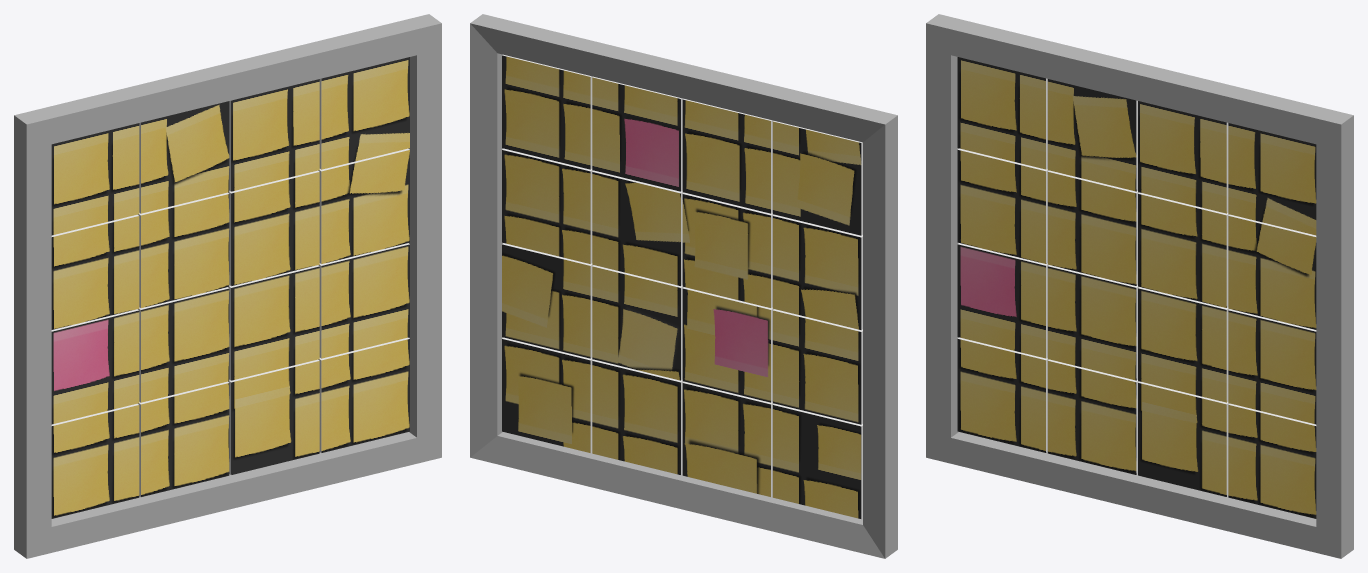
Rendered from puzzle2_postit.fbx.
The picture shows the model from 3 angles, left to right: view 1: azimuth 30°, elevation 25°; view 2: azimuth 150°, elevation 25°; view 3: azimuth 330°, elevation 25°; orthographic projection.
Visible parts, largest first — view 1: tl_1, sic, eleven, twelve, sixteen, fourteen, five, ten, fifteen, seven, nine, thirteen (+5 smaller); view 2: tl_1, sic, eleven, twelve, sixteen, five, fourteen, ten, thirteen, fifteen, seven, eight (+5 smaller); view 3: tl_1, seven, nine, ten, thirteen, eight, fourteen, fifteen, eleven, sic, twelve, sixteen (+5 smaller).
Part boxes in pixels (x1=…): tl_1: x1=14, y1=14, x2=441, y2=558; sic: x1=228, y1=170, x2=319, y2=286; eleven: x1=228, y1=265, x2=319, y2=380; twelve: x1=318, y1=243, x2=409, y2=358; sixteen: x1=318, y1=337, x2=409, y2=452; fourteen: x1=138, y1=381, x2=229, y2=496; five: x1=318, y1=148, x2=409, y2=263; ten: x1=138, y1=287, x2=229, y2=402; fifteen: x1=228, y1=359, x2=319, y2=474; seven: x1=138, y1=192, x2=229, y2=307; nine: x1=51, y1=309, x2=139, y2=424; thirteen: x1=51, y1=403, x2=139, y2=518; tl_1: x1=470, y1=14, x2=897, y2=558; sic: x1=592, y1=170, x2=683, y2=286; eleven: x1=592, y1=265, x2=683, y2=380; twelve: x1=502, y1=243, x2=593, y2=358; sixteen: x1=502, y1=337, x2=593, y2=452; five: x1=502, y1=148, x2=593, y2=263; fourteen: x1=682, y1=381, x2=773, y2=496; ten: x1=682, y1=287, x2=773, y2=402; thirteen: x1=772, y1=403, x2=862, y2=519; fifteen: x1=592, y1=359, x2=683, y2=474; seven: x1=682, y1=192, x2=773, y2=307; eight: x1=772, y1=214, x2=862, y2=330; tl_1: x1=926, y1=14, x2=1353, y2=558; seven: x1=1047, y1=170, x2=1139, y2=285; nine: x1=957, y1=243, x2=1048, y2=358; ten: x1=1047, y1=265, x2=1139, y2=380; thirteen: x1=957, y1=337, x2=1048, y2=452; eight: x1=957, y1=148, x2=1049, y2=263; fourteen: x1=1047, y1=359, x2=1139, y2=474; fifteen: x1=1138, y1=381, x2=1229, y2=496; eleven: x1=1138, y1=287, x2=1229, y2=402; sic: x1=1138, y1=192, x2=1229, y2=307; twelve: x1=1228, y1=309, x2=1316, y2=424; sixteen: x1=1228, y1=403, x2=1316, y2=518.
Size of the model in its own units: 151 by 151 by 8.
Materials: 17 (16 with a texture image).
